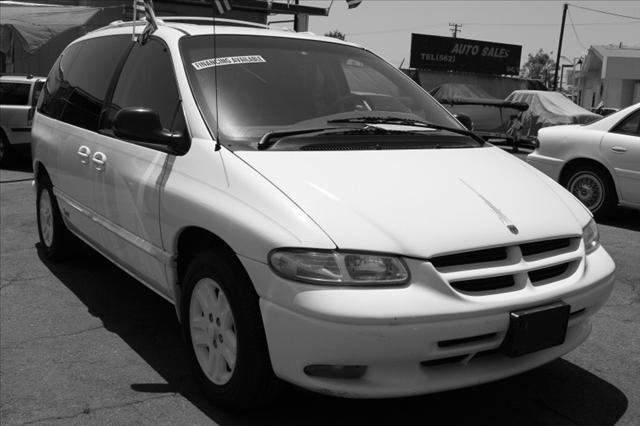car: (31, 10, 621, 400)
